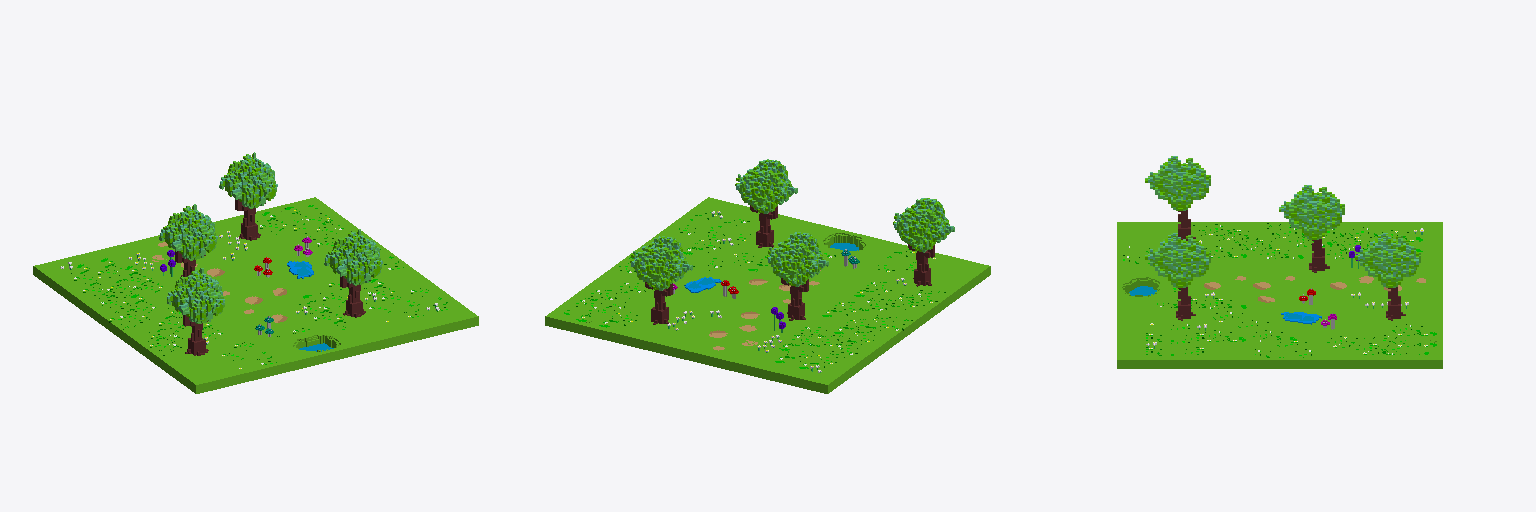
The picture shows the model from 3 angles: view 1: azimuth 30°, elevation 25°; view 2: azimuth 150°, elevation 25°; view 3: azimuth 270°, elevation 25°; orthographic projection.
Parts seen in each view (by area): view 1: Model; view 2: Model; view 3: Model.
Boxes of the visible parts, x1,y1,x2,y2 form: Model: [33, 152, 478, 393]; Model: [545, 159, 990, 393]; Model: [1117, 156, 1442, 368].
Size of the model in its own units: 32 by 9.62 by 32.
Materials: 1 (1 with a texture image).